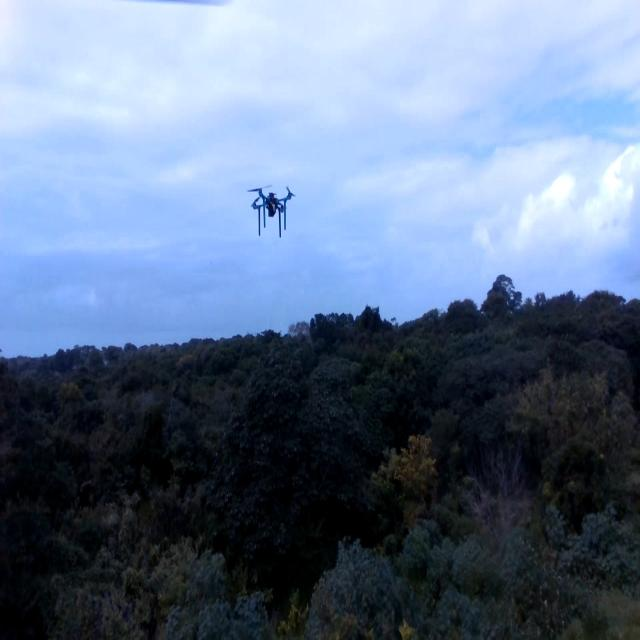-uav-: (248, 162, 297, 238)
